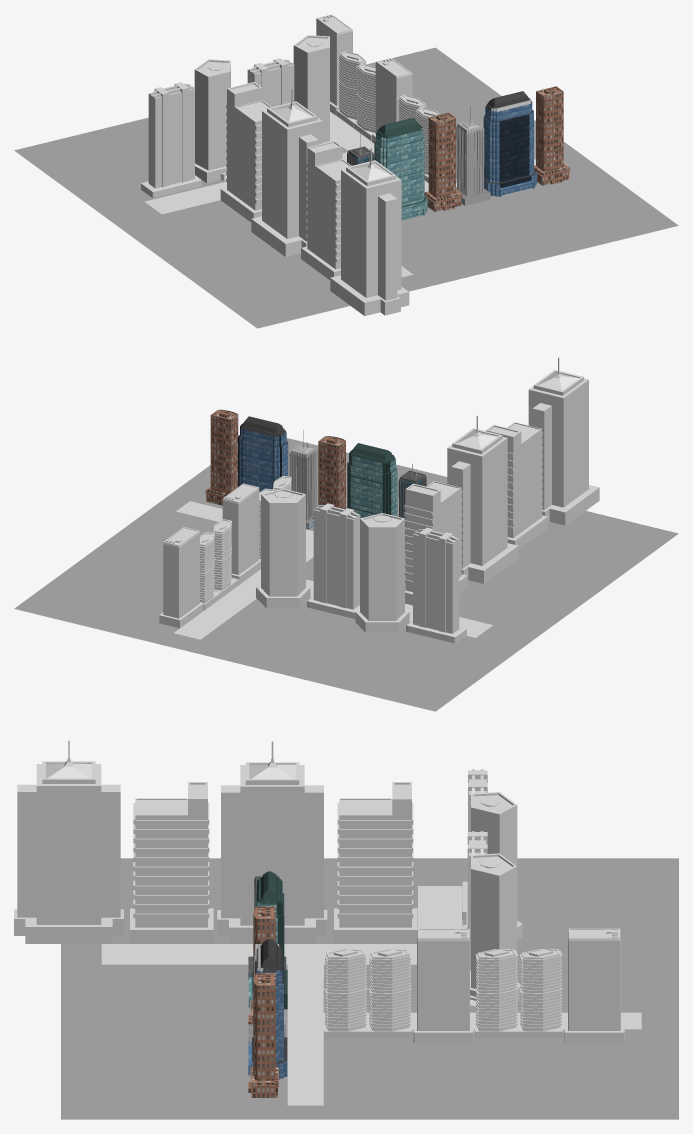
Rendered from test bilding.fbx.
3 renders of one model, top to bottom at view 1: azimuth 30°, elevation 25°; view 2: azimuth 150°, elevation 25°; view 3: azimuth 270°, elevation 25°, orthographic. The views are drawn at different scales.
Visible parts, largest first — view 1: pPlane1, pasted__Cube.019, pasted__Cylinder.005, pasted__Circle, pasted__Cylinder, pPlane2; view 2: pPlane1, pasted__Cube.019, pasted__Circle, pasted__Cylinder.005, pasted__Cylinder, pPlane2; view 3: pPlane1, pasted__Cube.019, pasted__Cylinder, pPlane2, pasted__Circle, pasted__Cylinder.005.
Boxes of the visible parts, left/top/right/bottom form: pPlane1: left=14, top=47, right=678, bottom=328; pasted__Cube.019: left=220, top=82, right=409, bottom=315; pasted__Cylinder.005: left=347, top=86, right=570, bottom=220; pasted__Circle: left=141, top=35, right=336, bottom=197; pasted__Cylinder: left=316, top=14, right=439, bottom=182; pPlane2: left=145, top=111, right=567, bottom=277; pPlane1: left=14, top=438, right=678, bottom=711; pasted__Cube.019: left=404, top=357, right=599, bottom=605; pasted__Circle: left=256, top=488, right=466, bottom=643; pasted__Cylinder.005: left=205, top=409, right=426, bottom=548; pasted__Cylinder: left=159, top=475, right=291, bottom=628; pPlane2: left=174, top=501, right=492, bottom=639; pPlane1: left=61, top=858, right=678, bottom=1119; pasted__Cube.019: left=14, top=740, right=417, bottom=943; pasted__Cylinder: left=324, top=928, right=624, bottom=1042; pPlane2: left=101, top=886, right=641, bottom=1105; pasted__Circle: left=462, top=769, right=522, bottom=1006; pasted__Cylinder.005: left=248, top=866, right=287, bottom=1097.
Bounding box in the file's own units: 41726 × 14221 × 44896.
